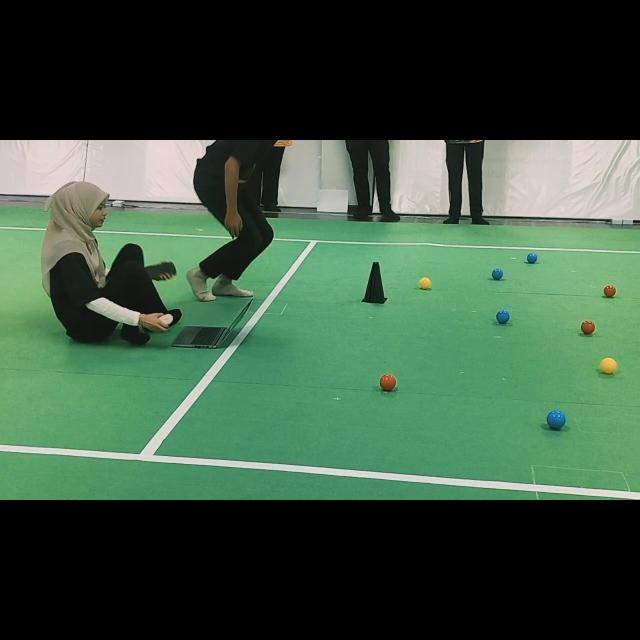ball: (546, 410, 566, 429), (600, 358, 618, 374), (581, 320, 596, 335), (496, 310, 510, 324), (604, 285, 616, 298), (526, 252, 538, 264), (419, 278, 431, 290), (491, 269, 504, 280)
